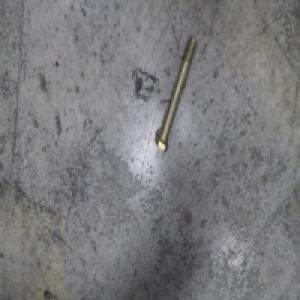Bolt: (155, 36, 200, 154)
